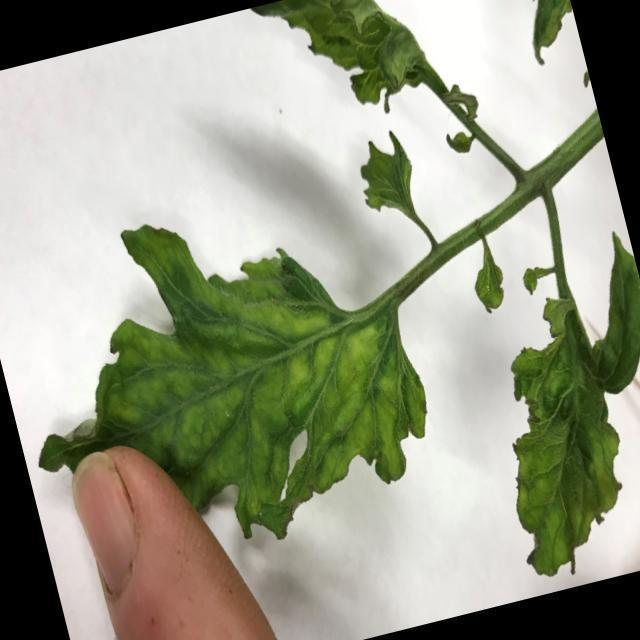Mosaic Virus: (49, 181, 432, 547), (470, 280, 640, 591)
